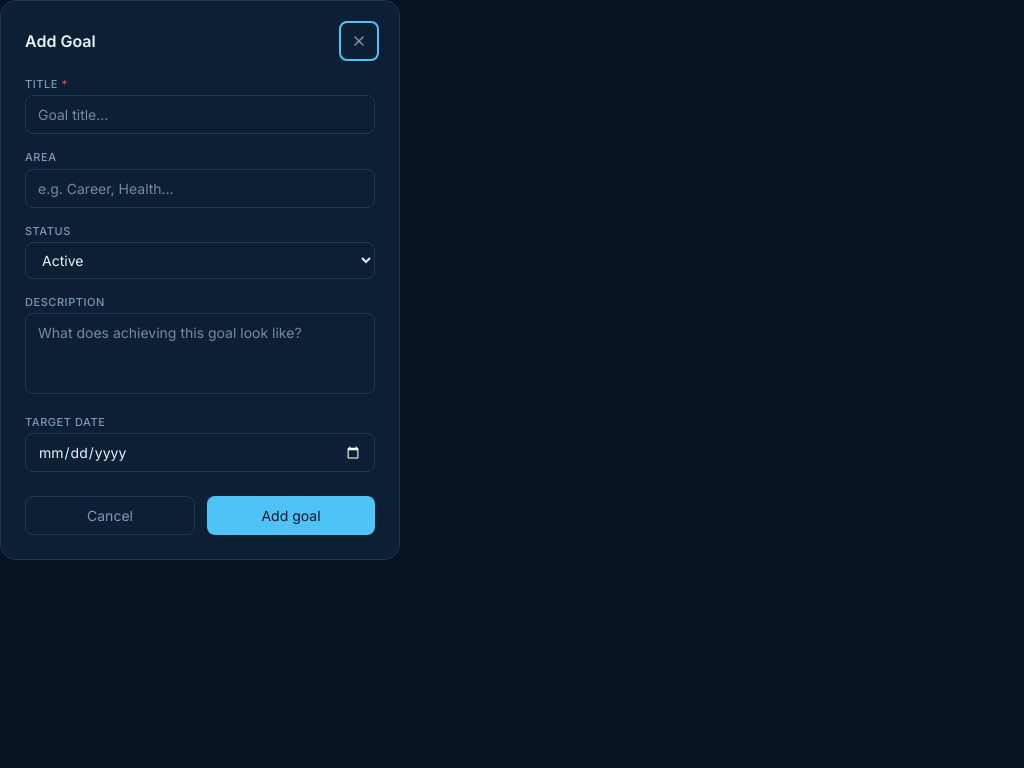
Test: GoalModal — Create mode › shows required-field error when submitting an empty form
The image size is (1024, 768).
Click the button "Add goal" at (291, 516), box [207,496,375,536]
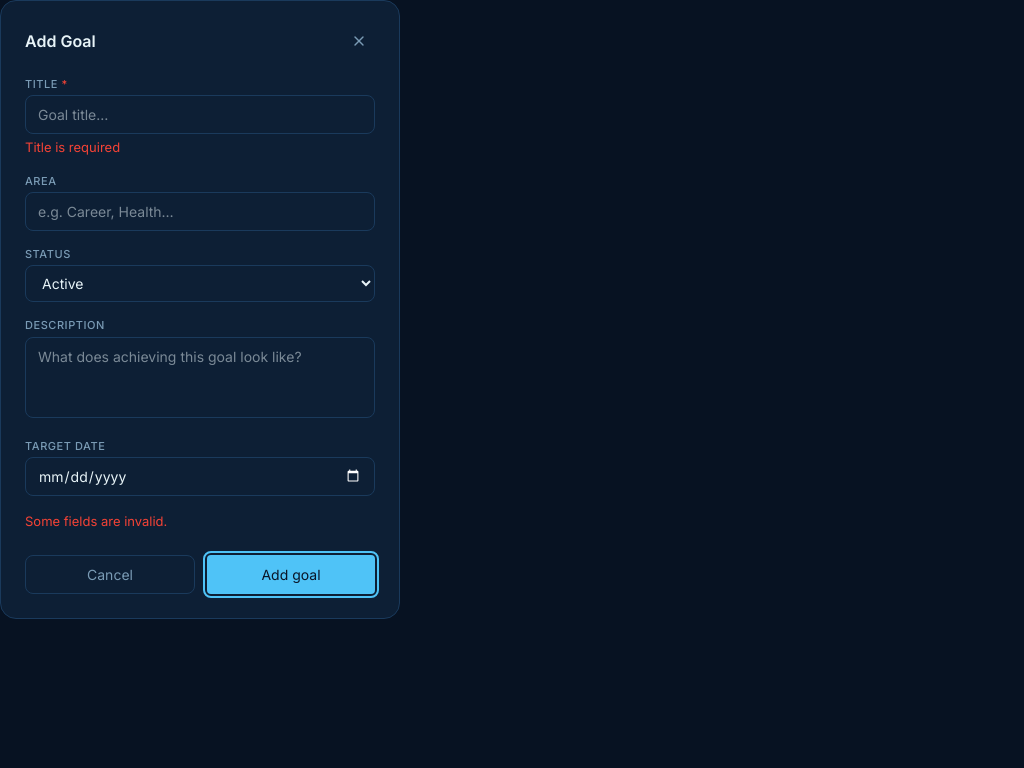
Check: the text "Title is required" is shown, box [25,139,120,155]
